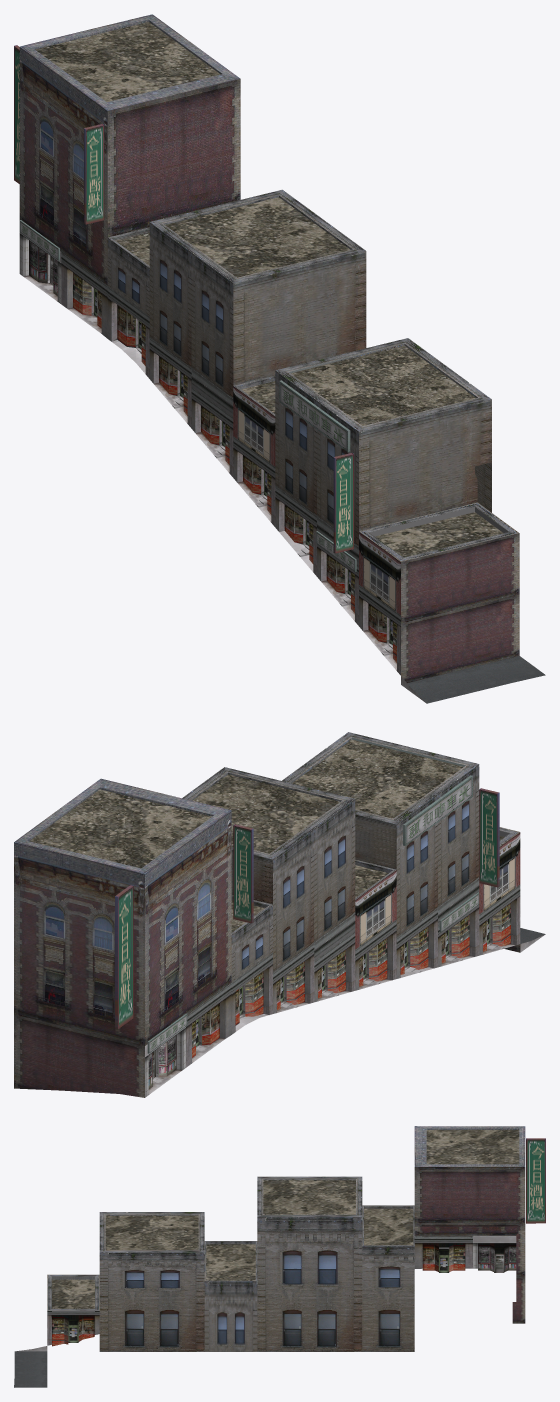
The model's file is tempbuild_sfw22.obj.
3 renders of one model, top to bottom at view 1: azimuth 30°, elevation 25°; view 2: azimuth 150°, elevation 25°; view 3: azimuth 270°, elevation 25°, orthographic. The views are drawn at different scales.
Visible parts, largest first — view 1: tempbuild_sfw22; view 2: tempbuild_sfw22; view 3: tempbuild_sfw22.
Part boxes in pixels (left/top/right/bottom): tempbuild_sfw22: left=14, top=14, right=545, bottom=703; tempbuild_sfw22: left=14, top=732, right=545, bottom=1097; tempbuild_sfw22: left=14, top=1126, right=545, bottom=1387.
Bounding box in the file's own units: 17.58 × 38.93 × 83.3.
Materials: 16 (16 with a texture image).
